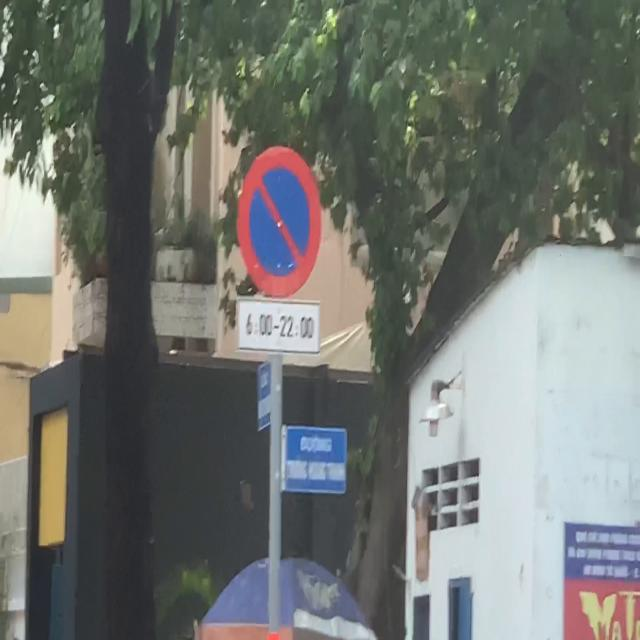Cam do: (235, 144, 324, 300)
